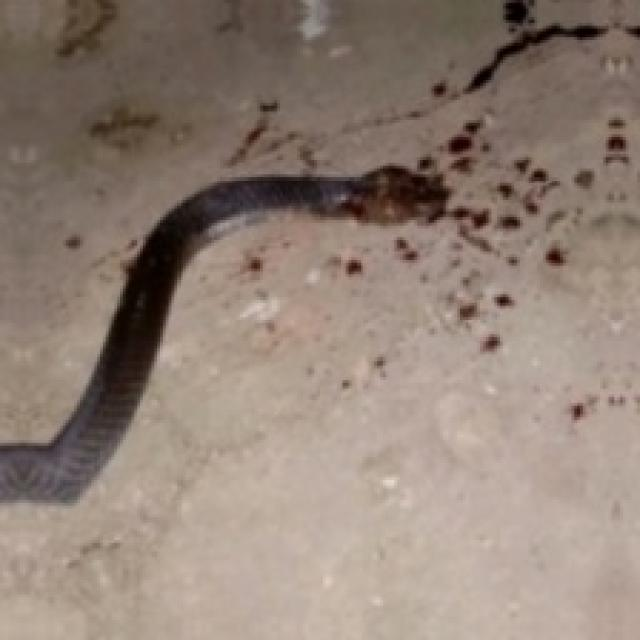king cobra: (0, 166, 446, 500)
